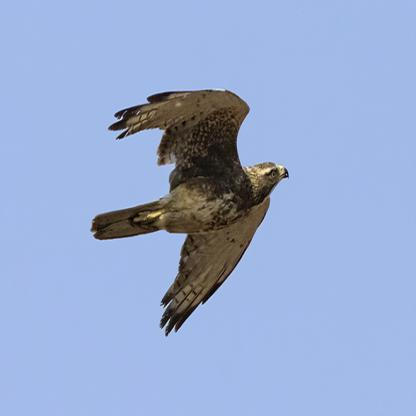Burung: (86, 87, 289, 334)
